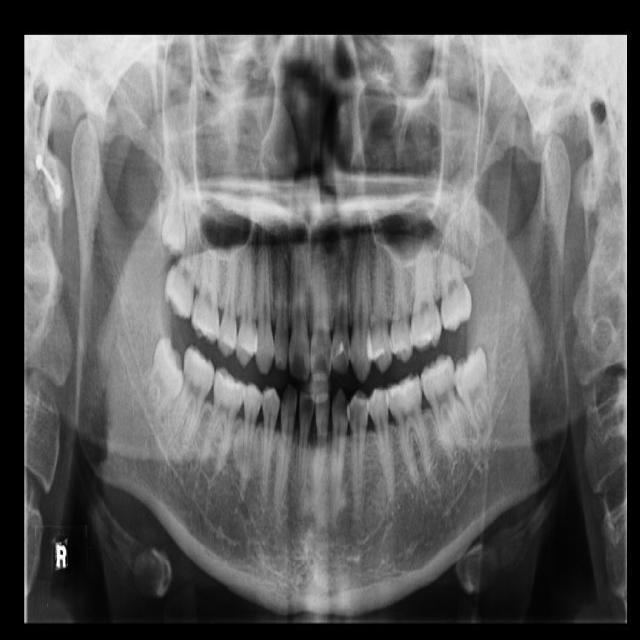3M ESPE Implant: (158, 163, 186, 257)
52: (328, 330, 351, 375)
73: (600, 548, 608, 562)
BioHorizons Implant: (439, 212, 472, 331)
Biomet 3i Implant: (450, 346, 494, 436)
Blue Sky Bio Implant: (415, 352, 469, 459)
Caries: (162, 210, 203, 320)
Implant: (170, 344, 219, 451)
Keystone Dental Implant: (134, 334, 197, 421)
